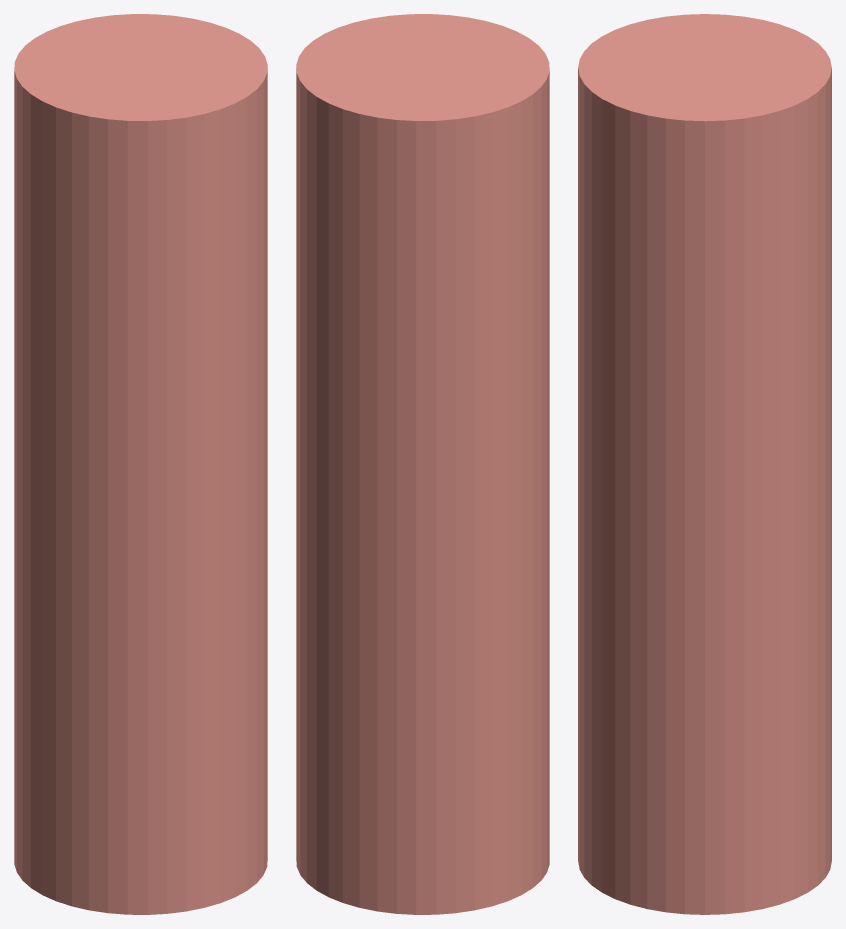
The model's file is gen_battery_00.glb.
The picture shows the model from 3 angles, left to right: view 1: azimuth 30°, elevation 25°; view 2: azimuth 150°, elevation 25°; view 3: azimuth 270°, elevation 25°; orthographic projection.
Visible parts, largest first — view 1: z-up-to-y-up; view 2: z-up-to-y-up; view 3: z-up-to-y-up.
Boxes of the visible parts, box(x1,y1,x2,y2) form: z-up-to-y-up: box(14, 14, 267, 914); z-up-to-y-up: box(296, 14, 549, 914); z-up-to-y-up: box(578, 14, 831, 914).
Size of the model in its own units: 0.0119 by 0.0411 by 0.0119.
